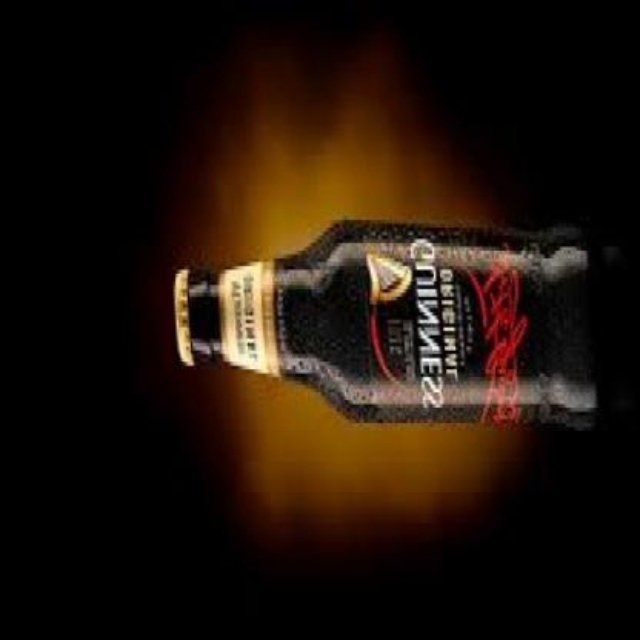trash: (174, 220, 595, 428)
